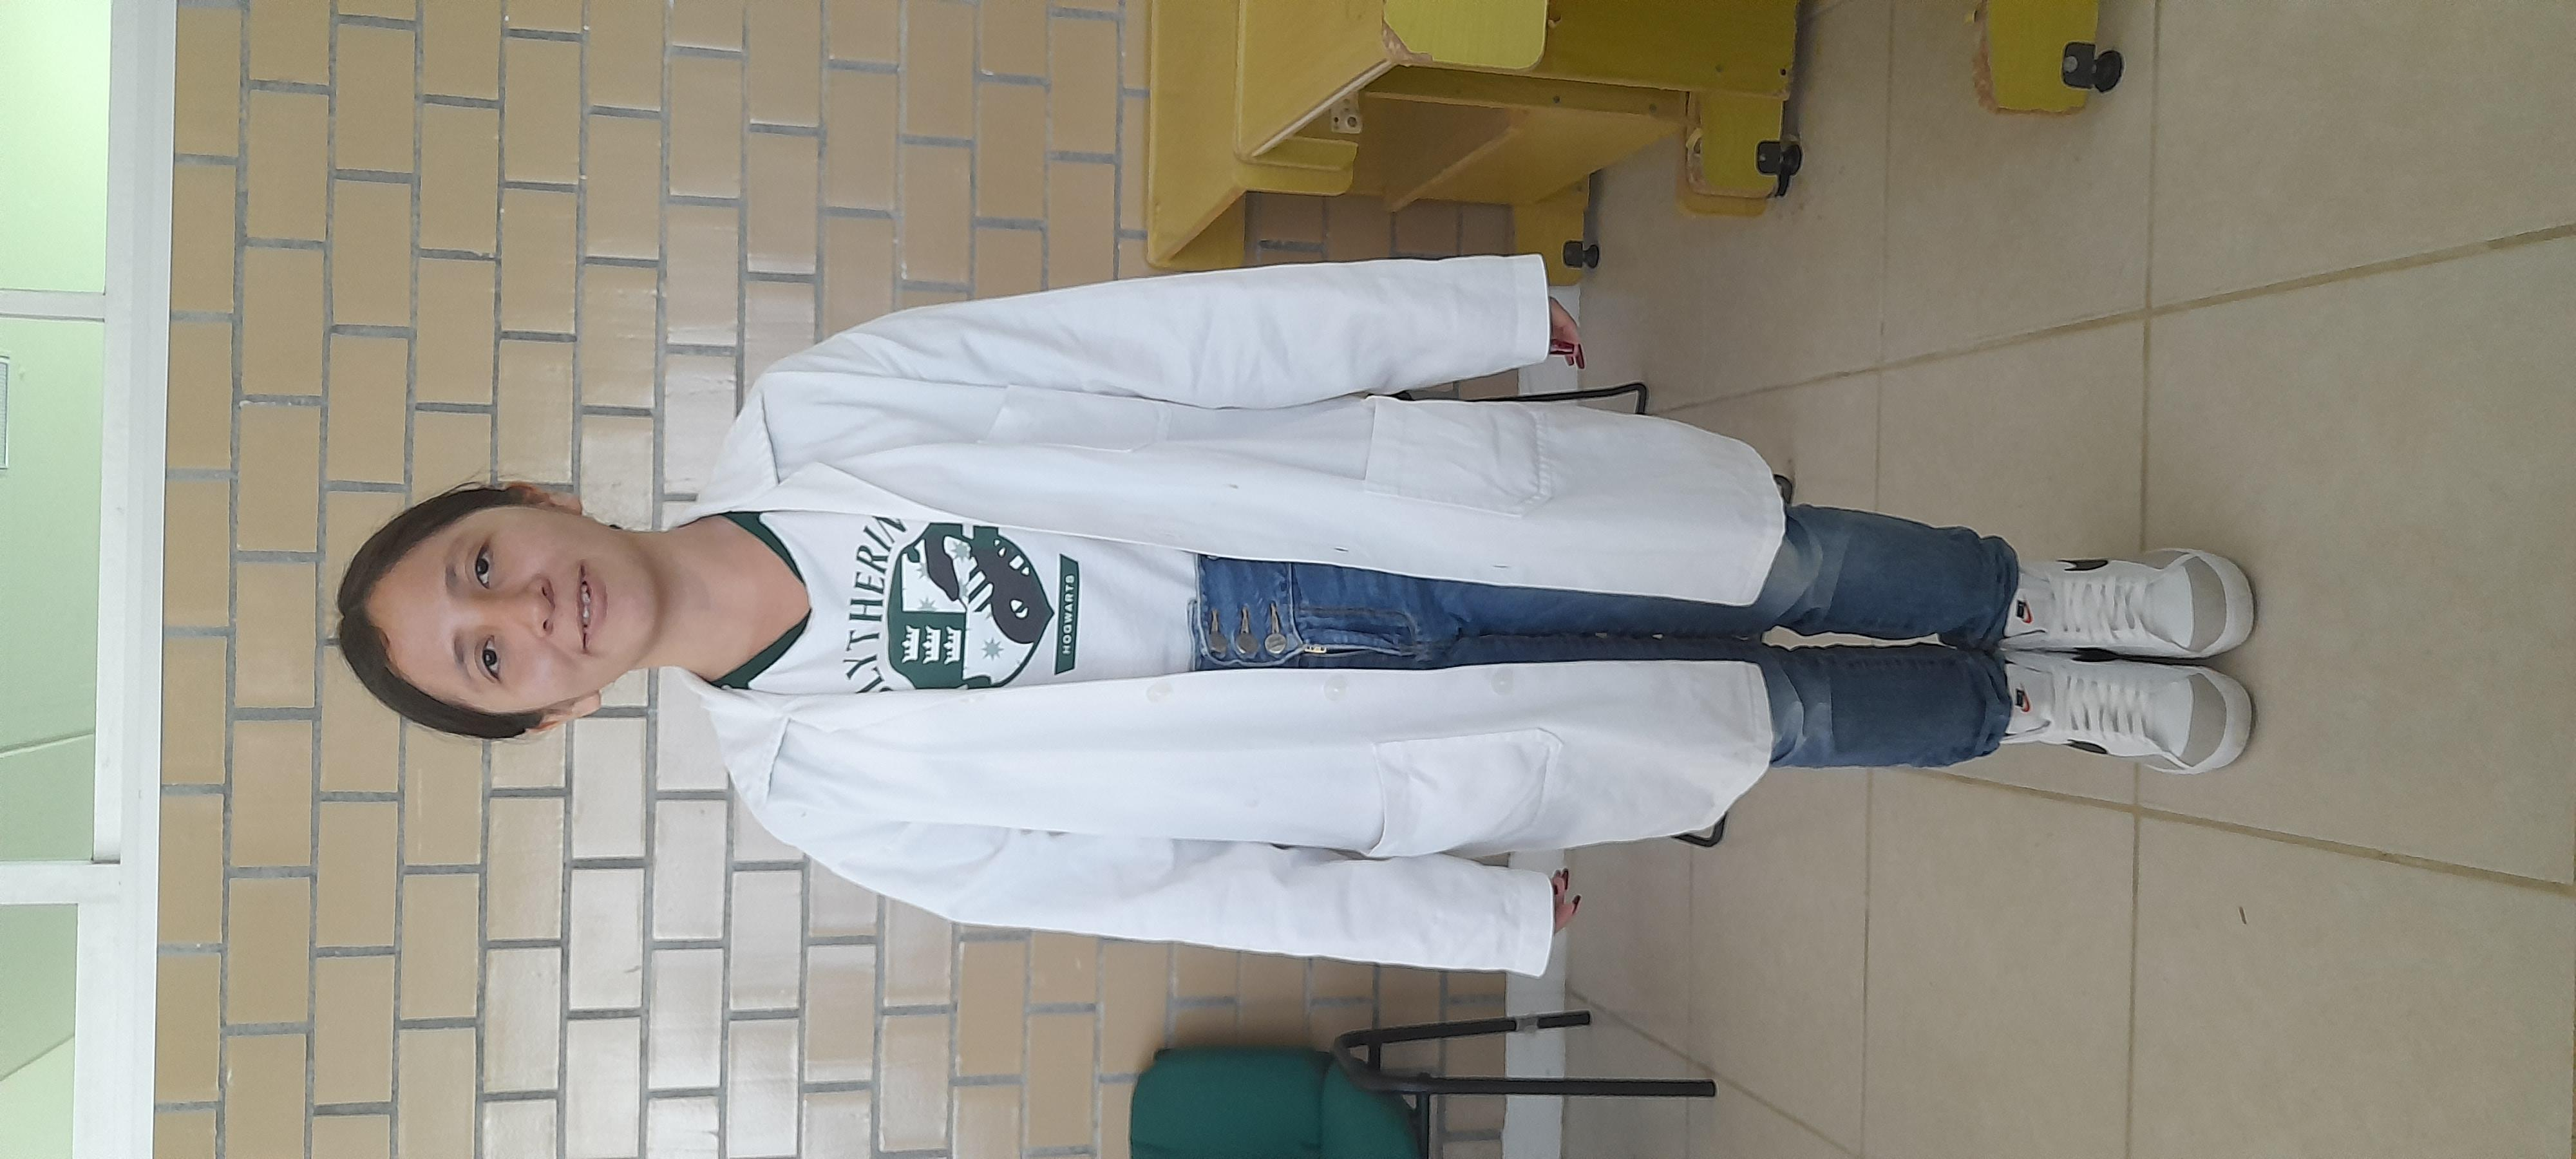Bata-Incorrecta: (228, 118, 2090, 1023)
